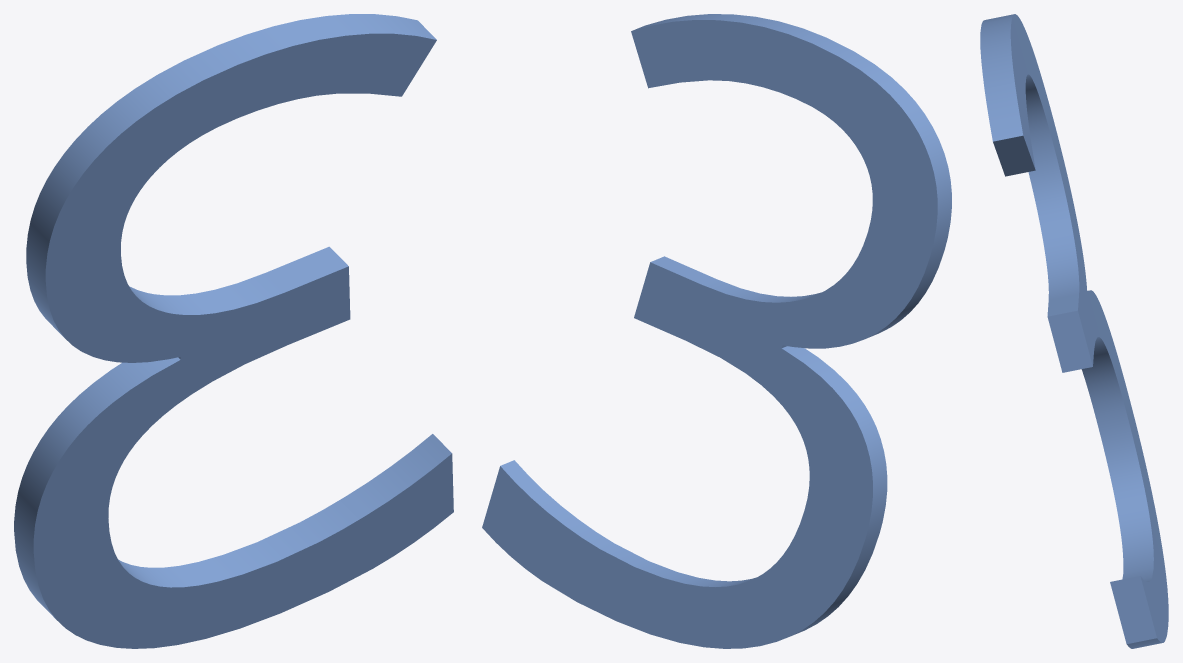
The model's file is New_Number_3.gltf.
3 views of the same model, side by side, from view 1: azimuth 30°, elevation 25°; view 2: azimuth 150°, elevation 25°; view 3: azimuth 270°, elevation 25° (orthographic). The views are drawn at different scales.
Parts seen in each view (by area): view 1: Part 444; view 2: Part 444; view 3: Part 444.
Part boxes in pixels (x1,y1,x2,y2): Part 444: (14,14,453,648); Part 444: (482,14,951,648); Part 444: (980,14,1168,648).
Size of the model in its own units: 0.00374 by 0.00505 by 0.00154.
